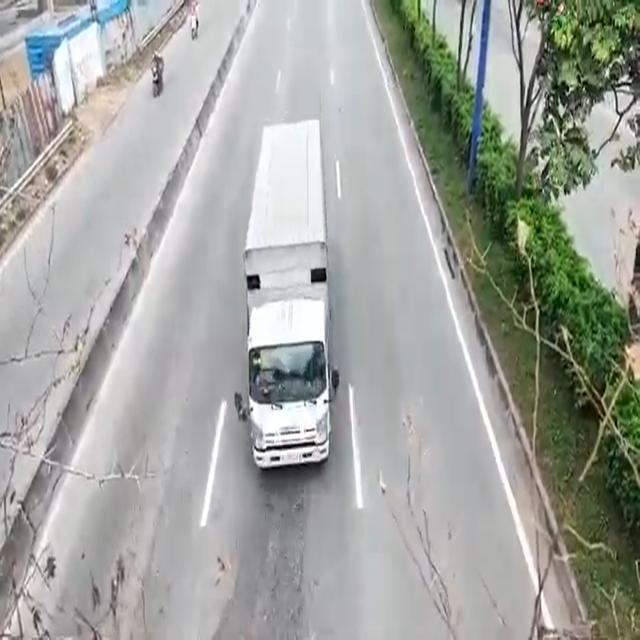motorbike: (150, 64, 166, 99)
truck: (247, 121, 334, 469)
